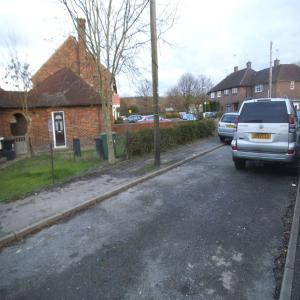Vehicle-registration-plate: (252, 132, 272, 139)
